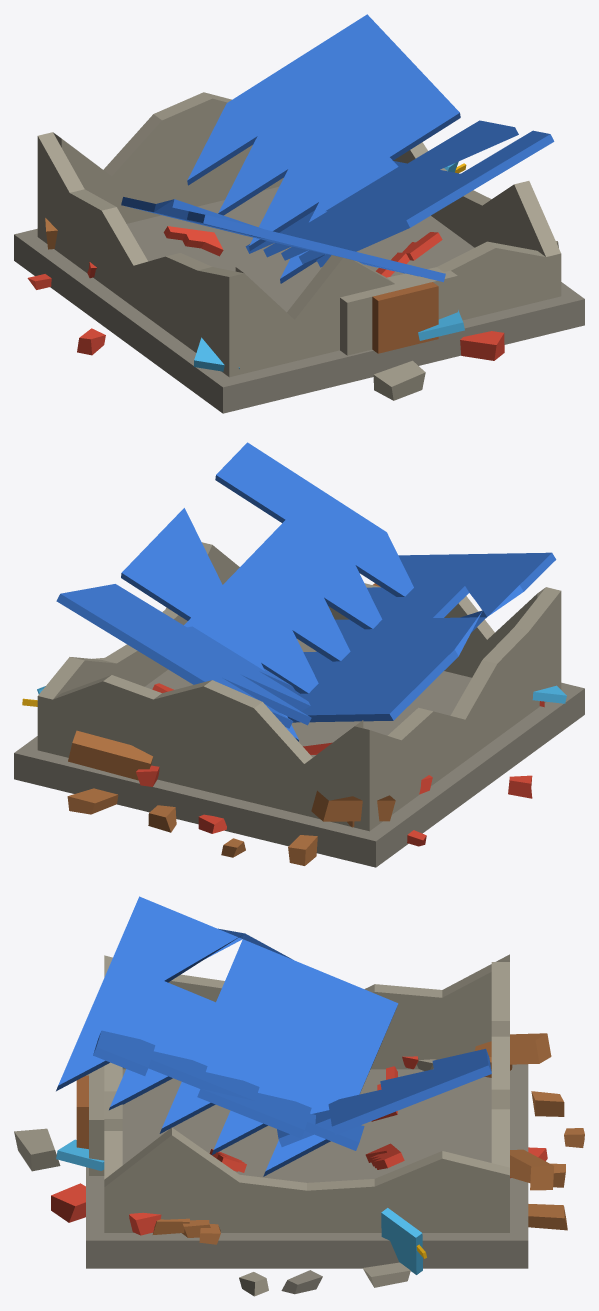
The model's file is house_t3_v4_dmg2.glb.
3 renders of one model, top to bottom at view 1: azimuth 30°, elevation 25°; view 2: azimuth 150°, elevation 25°; view 3: azimuth 270°, elevation 25°, orthographic. The views are drawn at different scales.
Parts seen in each view (by area): view 1: house_t3_v4_dmg2; view 2: house_t3_v4_dmg2; view 3: house_t3_v4_dmg2.
Boxes of the visible parts, <box> form: house_t3_v4_dmg2: <box>14,14,584,413</box>; house_t3_v4_dmg2: <box>14,442,584,867</box>; house_t3_v4_dmg2: <box>14,896,584,1296</box>.
Size of the model in its own units: 0.9234 by 0.3704 by 0.9291.
Materials: 1 (1 with a texture image).
